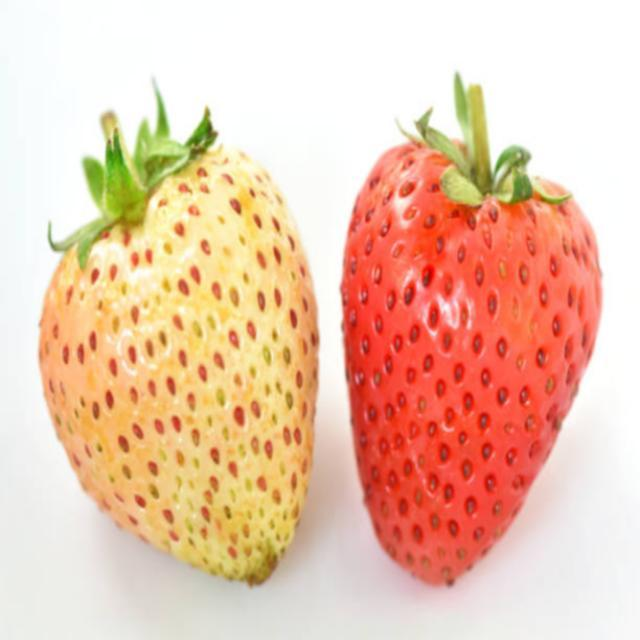strawberry: (39, 148, 319, 580), (342, 134, 604, 588)
